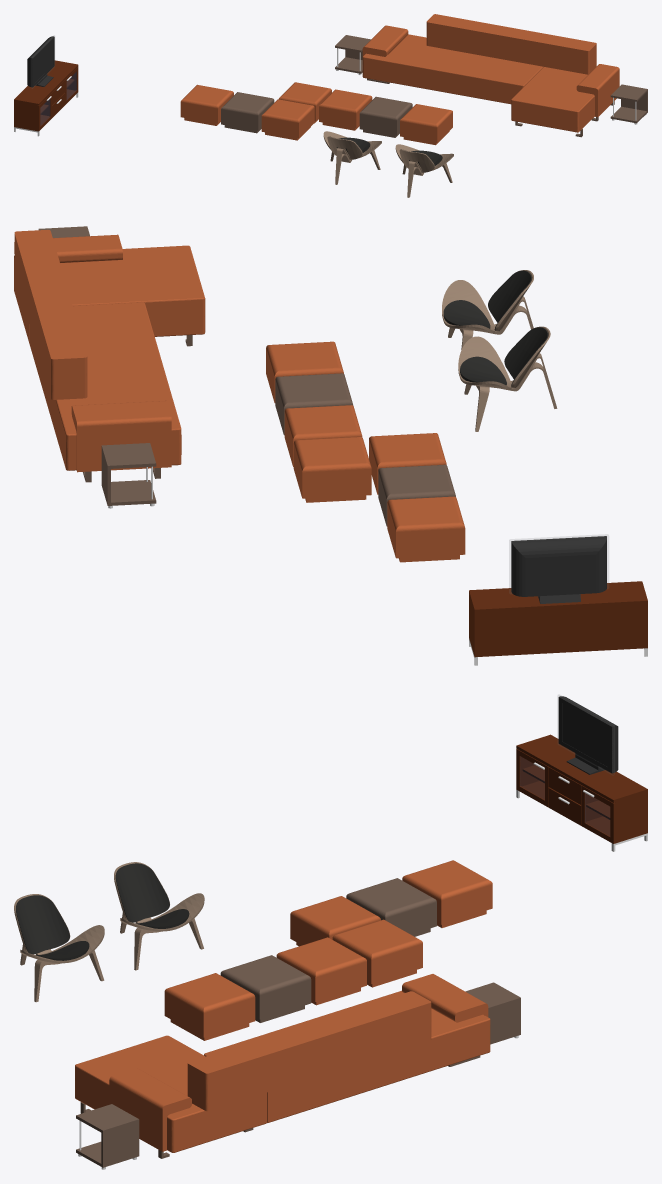
The model's file is rac_basic_sample_project_Level_1_Living_Rm_IfcFurnishingElement.dae.
3 views of the same model, one above another, from view 1: azimuth 30°, elevation 25°; view 2: azimuth 150°, elevation 25°; view 3: azimuth 270°, elevation 25° (orthographic). The views are drawn at different scales.
Parts seen in each view (by area): view 1: 1hb7CWkynF4vPDja0y_oQN, 2PbrheIID1GfgGRPO3yx$6, 2PbrheIID1GfgGRPO3yxga, 1hb7CWkynF4vPDja0y_oEs, 2PbrheIID1GfgGRPO3yxeK, 2PbrheIID1GfgGRPO3yxiy, 2PbrheIID1GfgGRPO3yxjg, 2PbrheIID1GfgGRPO3yaMM, 20nhVaBTTAJguMI9o6oDPn, 1N_4TwOEH5194SbNmRTFml, 1mNYMX4dvDThNrJdPk$sEy, 1mNYMX4dvDThNrJdPk$ta$ (+2 smaller); view 2: 1hb7CWkynF4vPDja0y_oQN, 2PbrheIID1GfgGRPO3yx$6, 1mNYMX4dvDThNrJdPk$ta$, 2PbrheIID1GfgGRPO3yxiy, 2PbrheIID1GfgGRPO3yxeS, 1N_4TwOEH5194SbNmRTFml, 20nhVaBTTAJguMI9o6oDPn, 1mNYMX4dvDThNrJdPk$tmD, 2PbrheIID1GfgGRPO3yaMM, 2PbrheIID1GfgGRPO3yxjg, 2PbrheIID1GfgGRPO3yxeK, 1hb7CWkynF4vPDja0y_oEs (+1 smaller); view 3: 1hb7CWkynF4vPDja0y_oQN, 2PbrheIID1GfgGRPO3yx$6, 1hb7CWkynF4vPDja0y_oEs, 20nhVaBTTAJguMI9o6oDPn, 1N_4TwOEH5194SbNmRTFml, 2PbrheIID1GfgGRPO3yaMM, 2PbrheIID1GfgGRPO3yxiy, 2PbrheIID1GfgGRPO3yxeS, 2PbrheIID1GfgGRPO3yxeK, 1mNYMX4dvDThNrJdPk$ta$, 2PbrheIID1GfgGRPO3yxjg, 1mNYMX4dvDThNrJdPk$sEy (+2 smaller).
Boxes of the visible parts, left/top/right/bottom form: 1hb7CWkynF4vPDja0y_oQN: left=362, top=14, right=619, bottom=137; 2PbrheIID1GfgGRPO3yx$6: left=14, top=60, right=78, bottom=136; 2PbrheIID1GfgGRPO3yxga: left=261, top=99, right=314, bottom=140; 1hb7CWkynF4vPDja0y_oEs: left=400, top=104, right=452, bottom=145; 2PbrheIID1GfgGRPO3yxeK: left=319, top=89, right=372, bottom=130; 2PbrheIID1GfgGRPO3yxiy: left=180, top=84, right=233, bottom=125; 2PbrheIID1GfgGRPO3yxjg: left=221, top=92, right=274, bottom=133; 2PbrheIID1GfgGRPO3yaMM: left=359, top=96, right=412, bottom=137; 20nhVaBTTAJguMI9o6oDPn: left=395, top=144, right=453, bottom=197; 1N_4TwOEH5194SbNmRTFml: left=323, top=131, right=381, bottom=184; 1mNYMX4dvDThNrJdPk$sEy: left=610, top=84, right=647, bottom=124; 1mNYMX4dvDThNrJdPk$ta$: left=27, top=35, right=54, bottom=88; 1hb7CWkynF4vPDja0y_oQN: left=14, top=229, right=205, bottom=482; 2PbrheIID1GfgGRPO3yx$6: left=469, top=581, right=647, bottom=665; 1mNYMX4dvDThNrJdPk$ta$: left=509, top=534, right=608, bottom=603; 2PbrheIID1GfgGRPO3yxiy: left=387, top=496, right=465, bottom=562; 2PbrheIID1GfgGRPO3yxeS: left=293, top=437, right=371, bottom=502; 1N_4TwOEH5194SbNmRTFml: left=458, top=326, right=557, bottom=431; 20nhVaBTTAJguMI9o6oDPn: left=442, top=270, right=540, bottom=373; 1mNYMX4dvDThNrJdPk$tmD: left=101, top=443, right=156, bottom=508; 2PbrheIID1GfgGRPO3yaMM: left=275, top=373, right=353, bottom=435; 2PbrheIID1GfgGRPO3yxjg: left=378, top=464, right=455, bottom=526; 2PbrheIID1GfgGRPO3yxeK: left=284, top=405, right=362, bottom=466; 1hb7CWkynF4vPDja0y_oEs: left=266, top=341, right=343, bottom=402; 1hb7CWkynF4vPDja0y_oQN: left=75, top=974, right=490, bottom=1158; 2PbrheIID1GfgGRPO3yx$6: left=516, top=734, right=647, bottom=851; 1hb7CWkynF4vPDja0y_oEs: left=164, top=973, right=255, bottom=1040; 20nhVaBTTAJguMI9o6oDPn: left=14, top=894, right=104, bottom=1002; 1N_4TwOEH5194SbNmRTFml: left=114, top=862, right=204, bottom=970; 2PbrheIID1GfgGRPO3yaMM: left=220, top=955, right=311, bottom=1022; 2PbrheIID1GfgGRPO3yxiy: left=402, top=860, right=492, bottom=927; 2PbrheIID1GfgGRPO3yxeS: left=332, top=919, right=422, bottom=987; 2PbrheIID1GfgGRPO3yxeK: left=276, top=937, right=366, bottom=1005; 1mNYMX4dvDThNrJdPk$ta$: left=558, top=695, right=618, bottom=774; 2PbrheIID1GfgGRPO3yxjg: left=346, top=878, right=436, bottom=936; 1mNYMX4dvDThNrJdPk$sEy: left=76, top=1104, right=139, bottom=1169.
Size of the model in its own units: 8.44 by 5.88 by 1.11.
